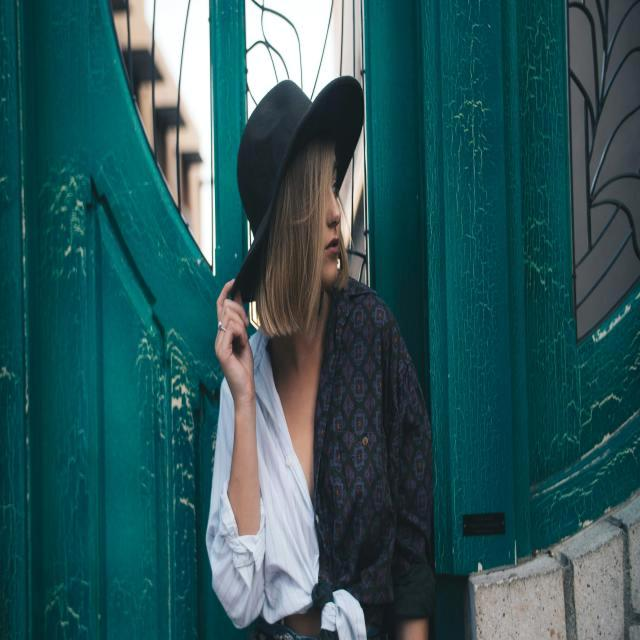no_hard_hat: (236, 76, 364, 280)
person: (207, 87, 435, 640)
